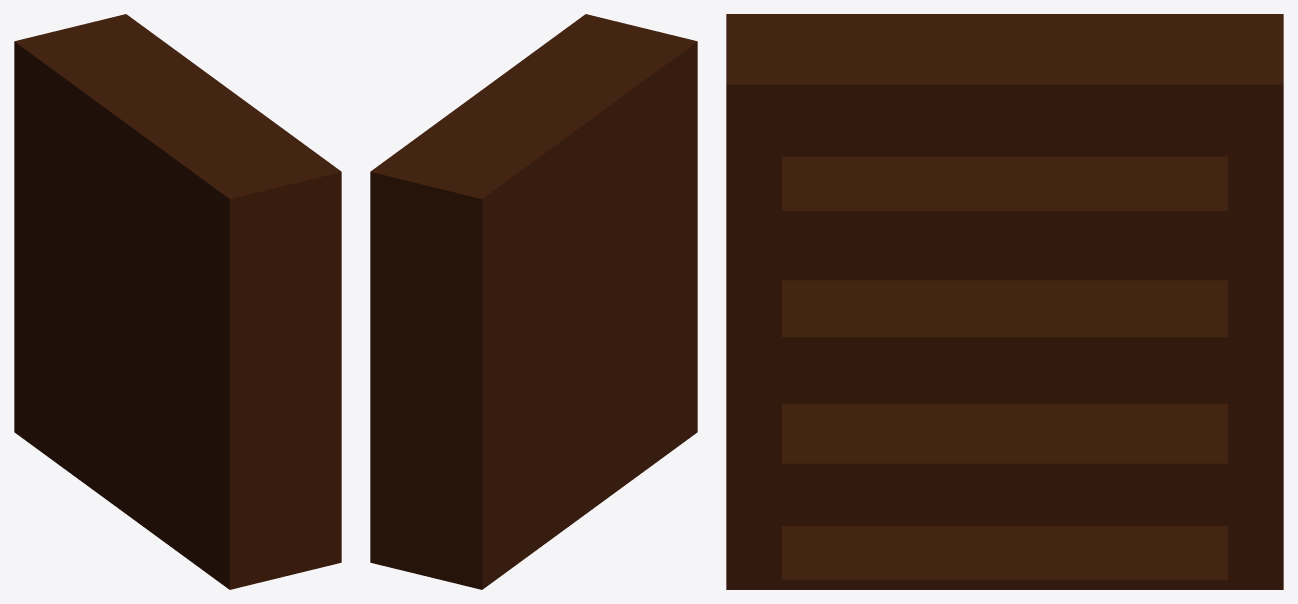
The model's file is bookcaseempty.fbx.
3 views of the same model, side by side, from view 1: azimuth 30°, elevation 25°; view 2: azimuth 150°, elevation 25°; view 3: azimuth 270°, elevation 25° (orthographic). The views are drawn at different scales.
Visible parts, largest first — view 1: BookCase; view 2: BookCase; view 3: BookCase.
Part boxes in pixels (x1,y1,x2,y2): BookCase: (14, 14, 341, 589); BookCase: (370, 14, 697, 589); BookCase: (726, 14, 1283, 589).
Bounding box in the file's own units: 60 × 200 × 200.
